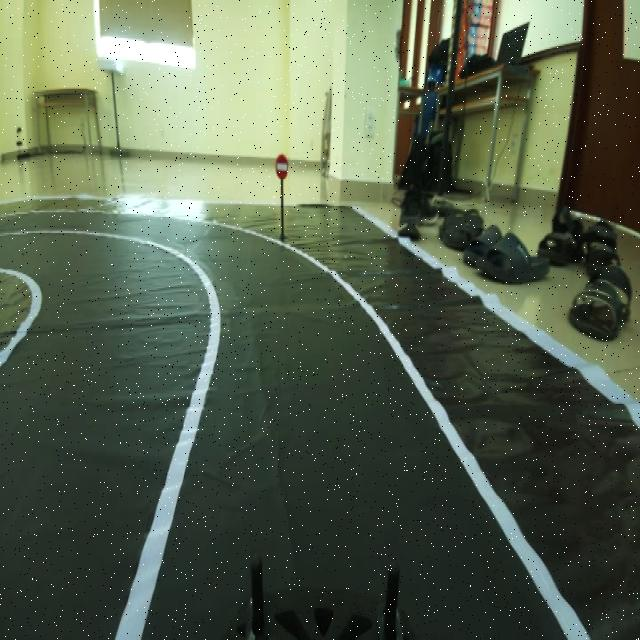no_entry: (271, 145, 289, 183)
